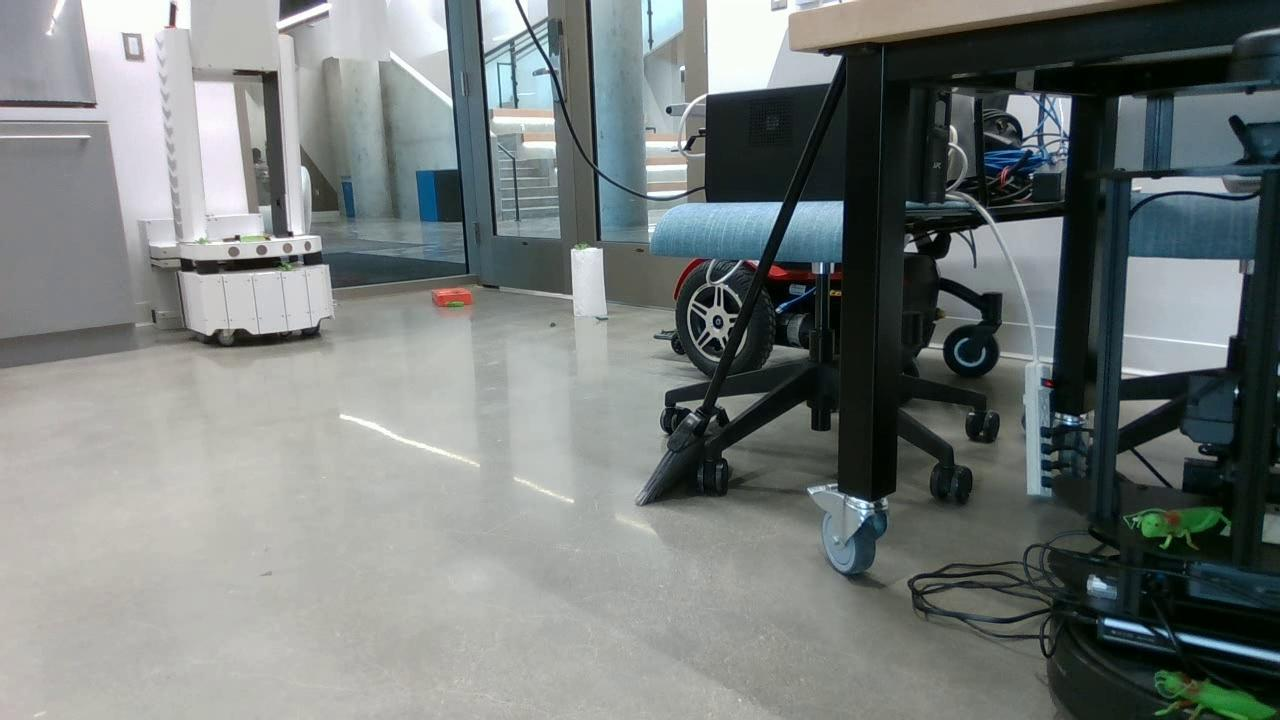grasshopper: (1152, 668, 1274, 719), (1131, 510, 1221, 550), (276, 260, 293, 270), (442, 301, 463, 309), (571, 243, 591, 251), (192, 236, 207, 244)
